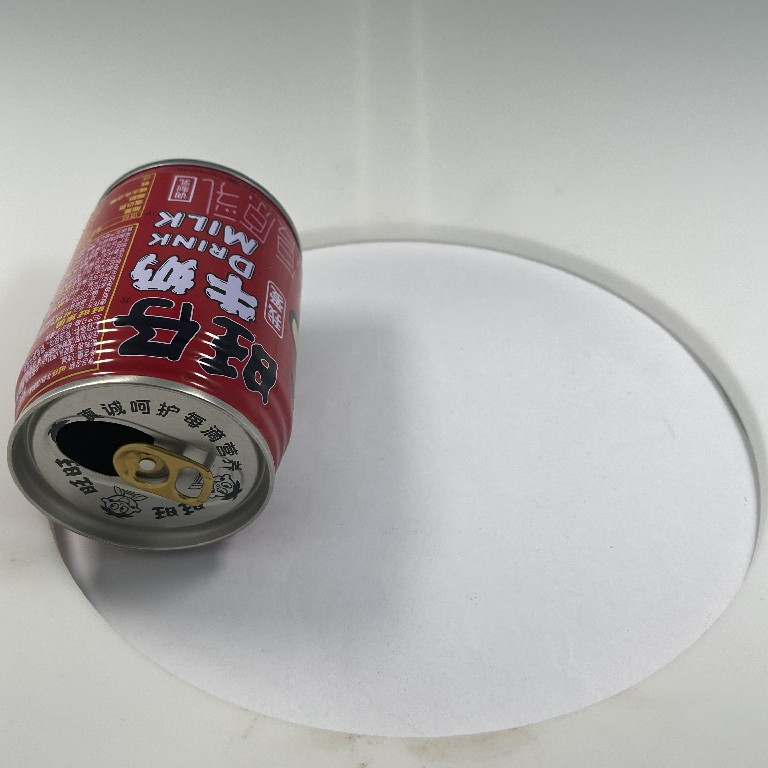can: (5, 152, 306, 556)
